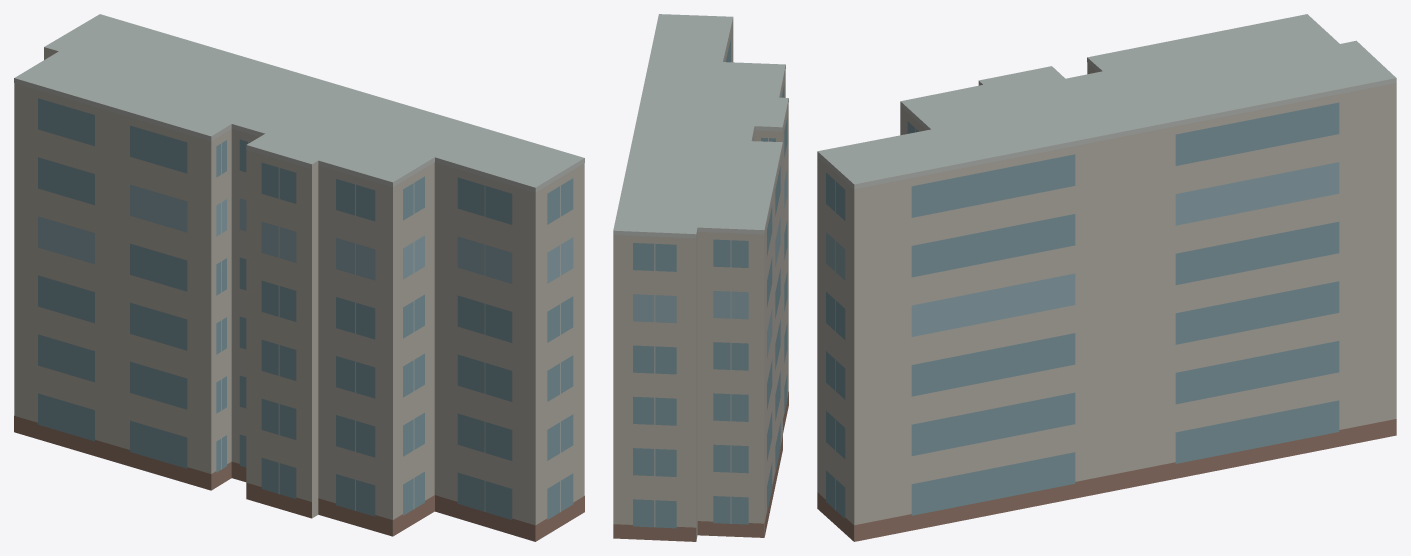
File: survey-upis-32628097.glb
3 views of the same model, side by side, from view 1: azimuth 30°, elevation 25°; view 2: azimuth 150°, elevation 25°; view 3: azimuth 270°, elevation 25° (orthographic). The views are drawn at different scales.
Parts seen in each view (by area): view 1: survey-upis-32628097.tmp; view 2: survey-upis-32628097.tmp; view 3: survey-upis-32628097.tmp.
Boxes of the visible parts, x1=… form: survey-upis-32628097.tmp: x1=14, y1=14, x2=584, y2=541; survey-upis-32628097.tmp: x1=613, y1=14, x2=788, y2=541; survey-upis-32628097.tmp: x1=817, y1=14, x2=1396, y2=541.
Bounding box in the file's own units: 18.11 × 17.7 × 26.
